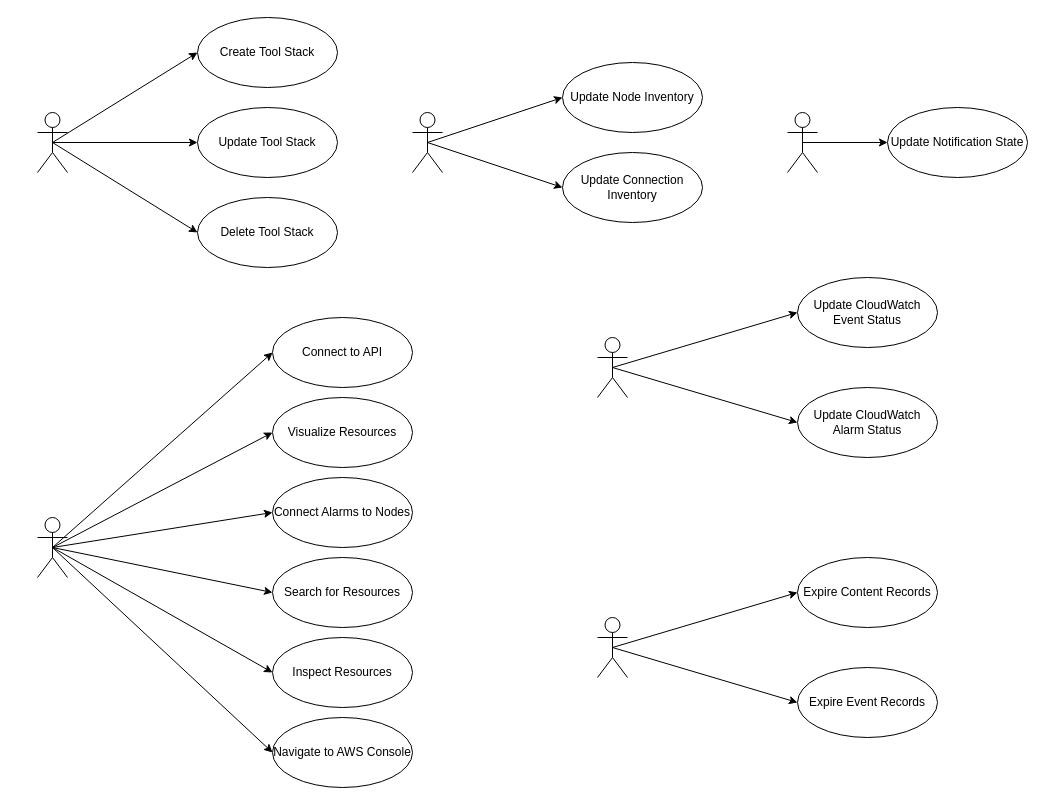
Image size: 1045x805. Some labels were removed from this diagram. Here are the shapes that lost their labels. From the top down, the centre of each, then its label:
At pixel 52 142: "Administrator".
At pixel 427 142: "CloudWatch Scheduler".
At pixel 802 142: "Browser Scheduler".
At pixel 612 367: "CloudWatch Events".
At pixel 52 547: "Operator".
At pixel 612 647: "DynamoDB Scheduler".
